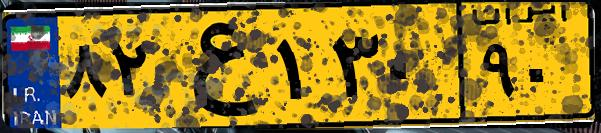0: (385, 28, 445, 110), (525, 38, 570, 115)
1: (270, 28, 330, 110)
2: (110, 28, 158, 98)
3: (330, 28, 385, 110)
8: (57, 26, 110, 100)
9: (475, 38, 525, 113)
ع: (158, 12, 270, 120)
